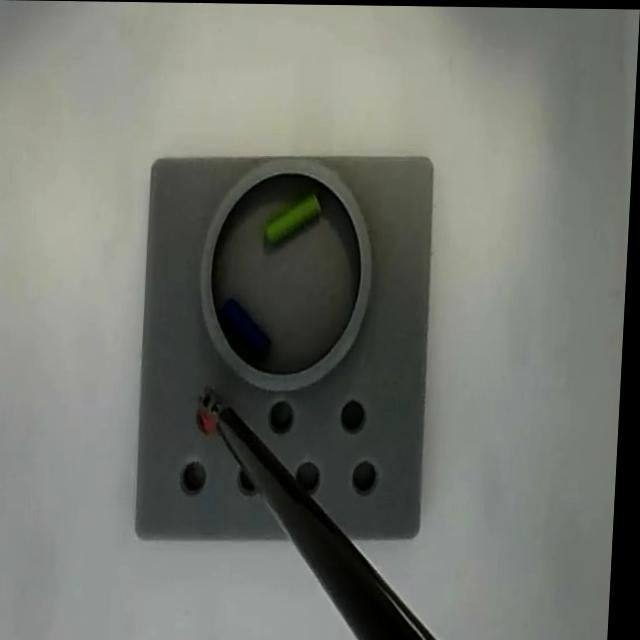EmptyHole: (353, 454, 385, 497), (184, 456, 217, 497), (296, 458, 328, 496), (271, 395, 301, 434), (241, 458, 271, 495), (344, 393, 371, 434)
FilledHole: (195, 391, 231, 437)
